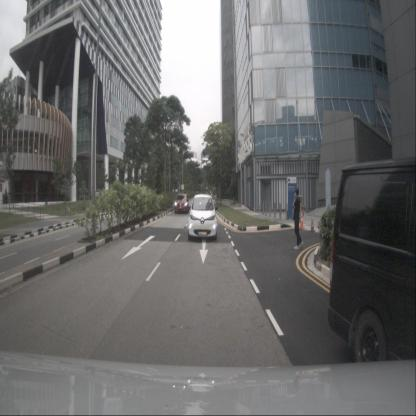cone: (309, 213, 316, 233), (299, 211, 305, 230)
